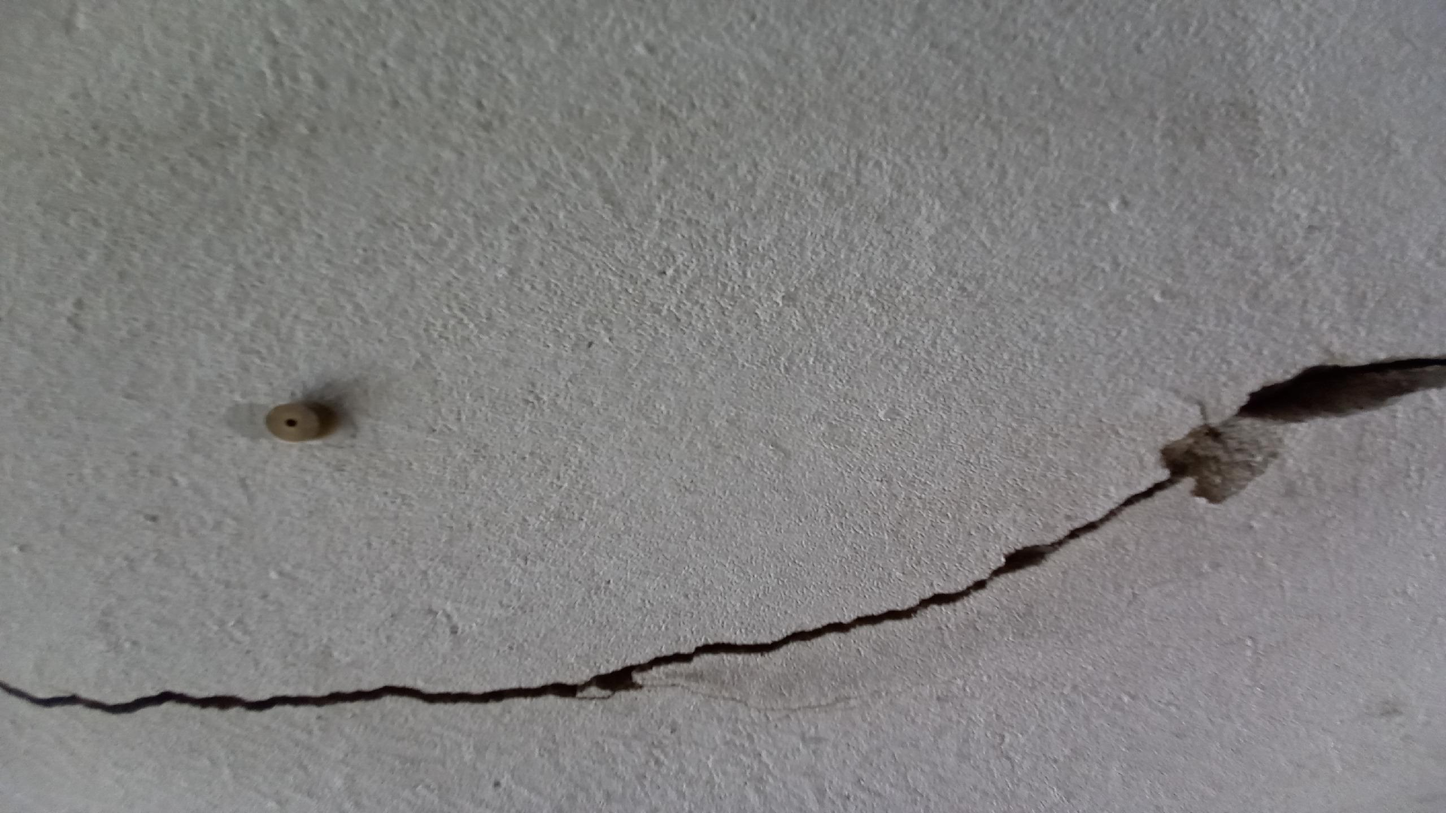crack: (1, 352, 1444, 718)
